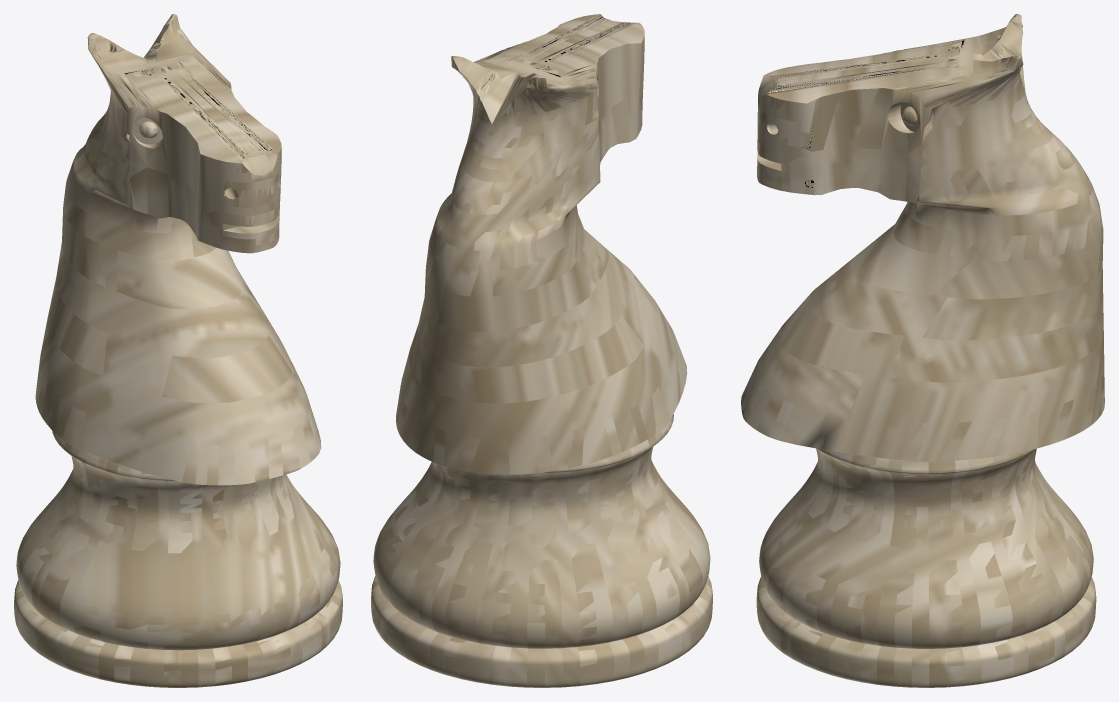
File: Knight.obj
3 views of the same model, side by side, from view 1: azimuth 30°, elevation 25°; view 2: azimuth 150°, elevation 25°; view 3: azimuth 270°, elevation 25° (orthographic). The views are drawn at different scales.
Parts seen in each view (by area): view 1: chess.009; view 2: chess.009; view 3: chess.009.
Boxes of the visible parts, x1,y1,x2,y2 form: chess.009: (14,14,342,687); chess.009: (371,14,712,687); chess.009: (741,14,1104,687).
Size of the model in its own units: 0.8244 by 1.57 by 0.8835.
